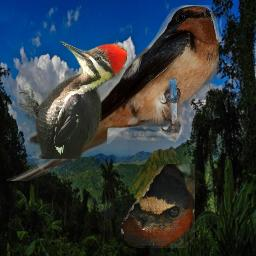Swallow: (4, 5, 219, 181), (121, 164, 195, 248)
Woodpecker: (19, 41, 127, 159)
